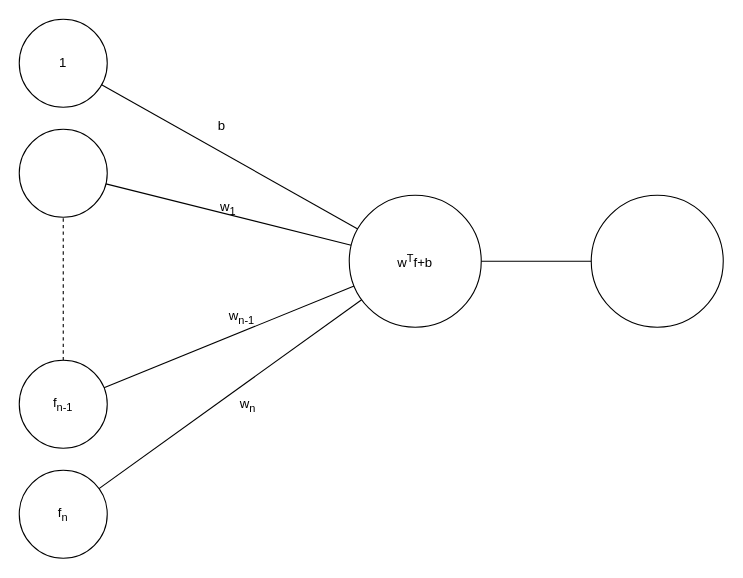
This 743x578 diagram has some shape labels left out. Each missing label, with the centre of its shape:
"f 1" belongs at [62,172].
"y =sigmoid(w T f+b)" belongs at [656,260].
